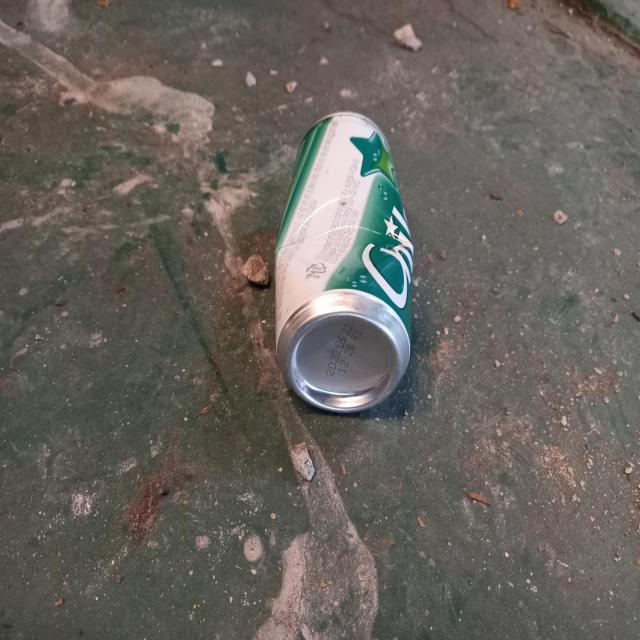can: (275, 112, 414, 412)
